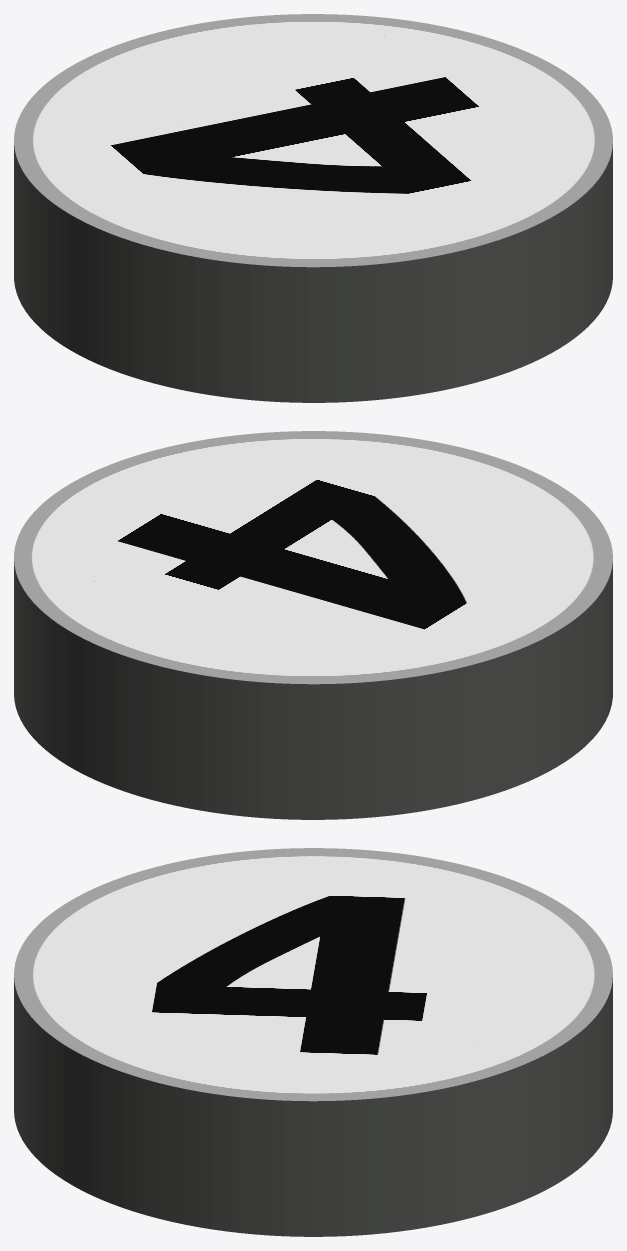
File: stepper_4.dae
3 renders of one model, top to bottom at view 1: azimuth 30°, elevation 25°; view 2: azimuth 150°, elevation 25°; view 3: azimuth 270°, elevation 25°, orthographic.
Visible parts, largest first — view 1: Cylinder; view 2: Cylinder; view 3: Cylinder.
Part boxes in pixels (x1=…): Cylinder: x1=14, y1=14, x2=612, y2=402; Cylinder: x1=14, y1=431, x2=612, y2=819; Cylinder: x1=14, y1=848, x2=612, y2=1236.
Bounding box in the file's own units: 0.8 × 0.8 × 0.2.
Materials: 1 (1 with a texture image).
